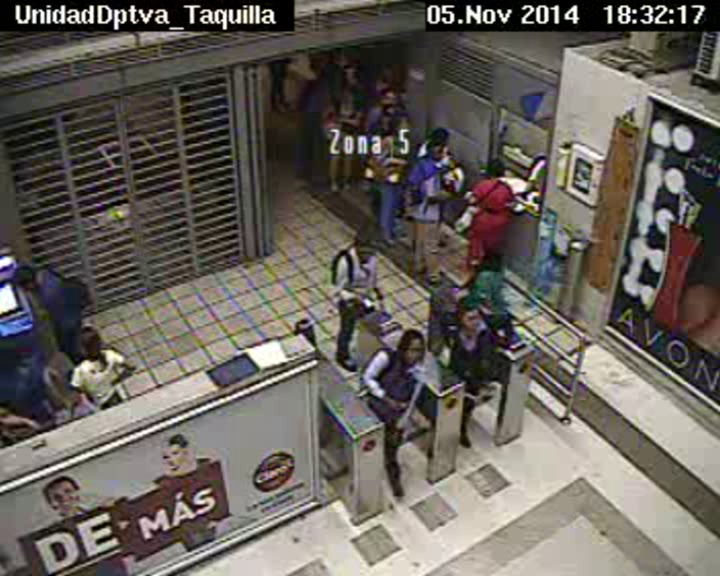person: (396, 329, 427, 363), (75, 326, 106, 356), (454, 302, 482, 333), (479, 245, 504, 274), (351, 234, 373, 262), (11, 264, 35, 289), (426, 138, 448, 164), (1, 336, 22, 362), (487, 156, 509, 179), (429, 126, 451, 149), (389, 114, 411, 136), (379, 88, 397, 106), (340, 91, 355, 107), (305, 69, 321, 83), (381, 67, 394, 81), (380, 113, 392, 127), (330, 51, 342, 63)
